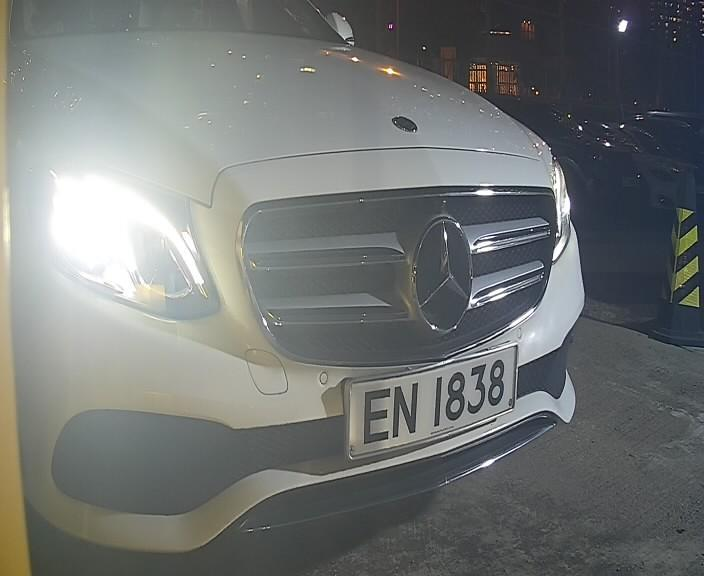License Plate: (324, 343, 538, 463)
